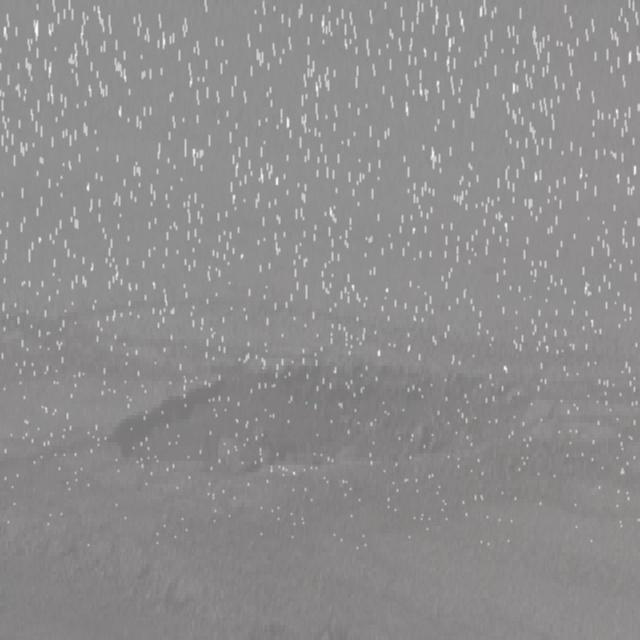Pothole: (86, 353, 555, 499)
